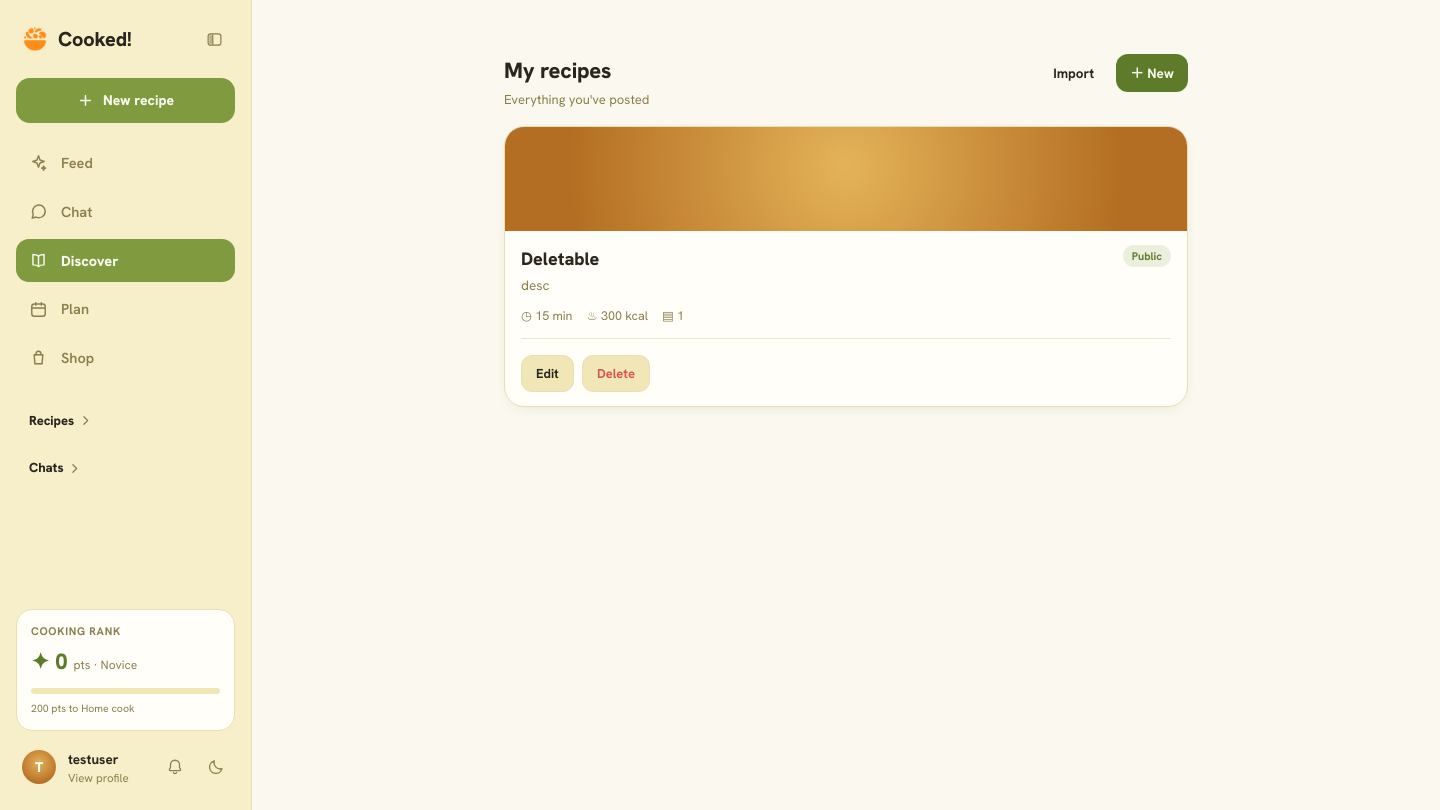
MyRecipesPage › deletes a recipe after confirmation and drops it from the list
Step 1. Click the button "Delete" → (616, 374), box [582,355,650,392]
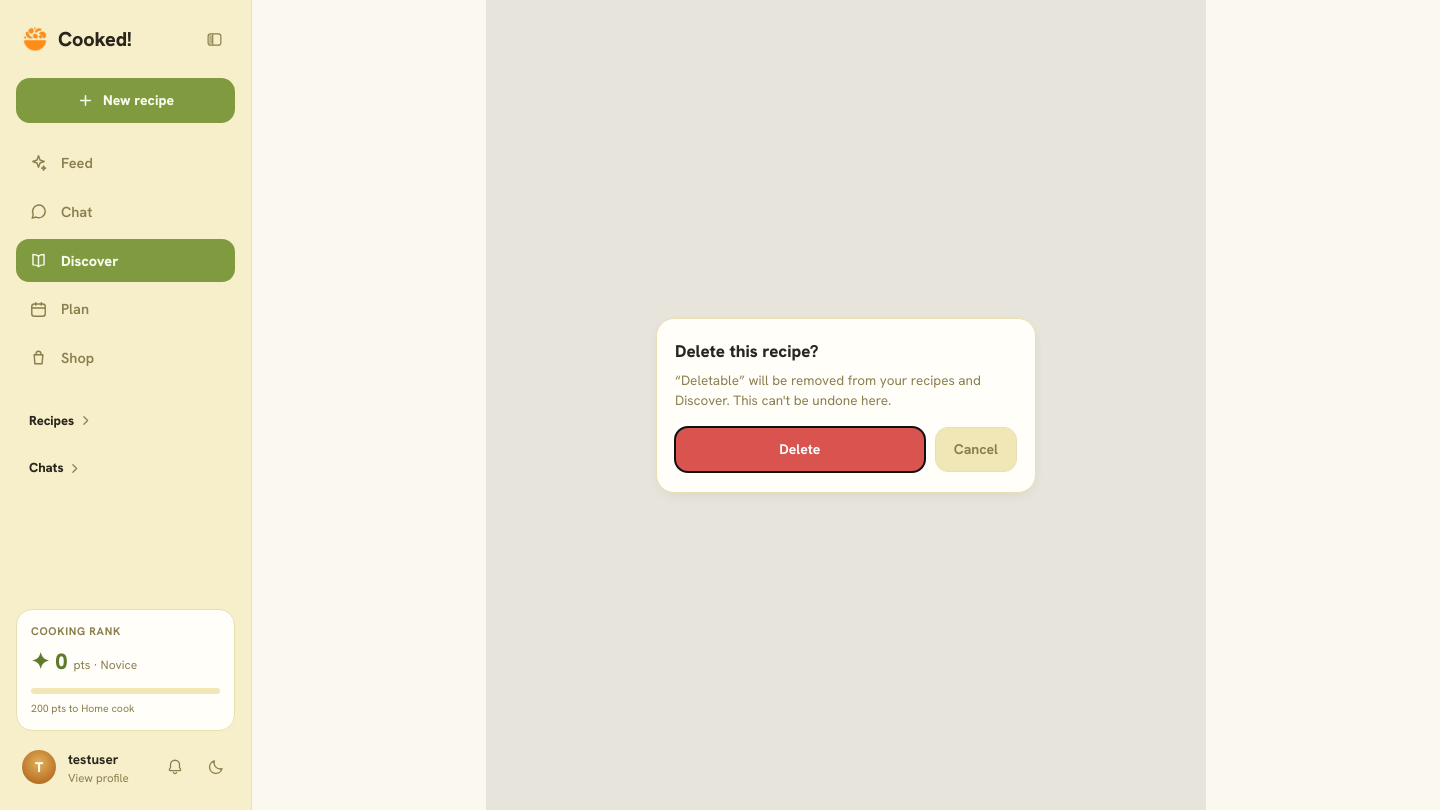
Check: the text "Delete this recipe?" is shown, box [675,340,818,362]
Step 2. Click the button "Delete" → (800, 449), box [675,426,925,472]
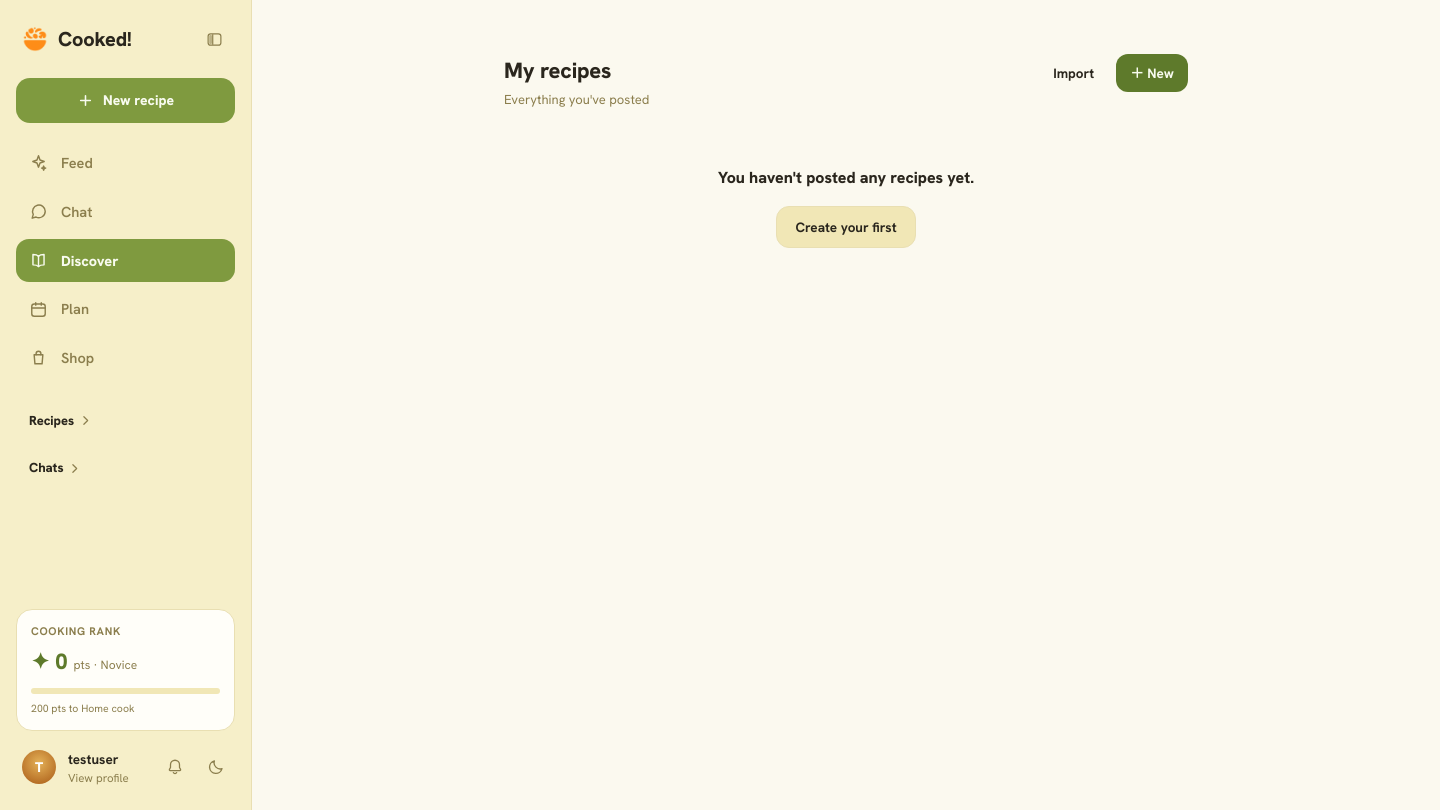
Check: the link "Deletable" is not shown
Check: the text "You haven't posted any recipes yet." is shown, box [718,166,974,188]
